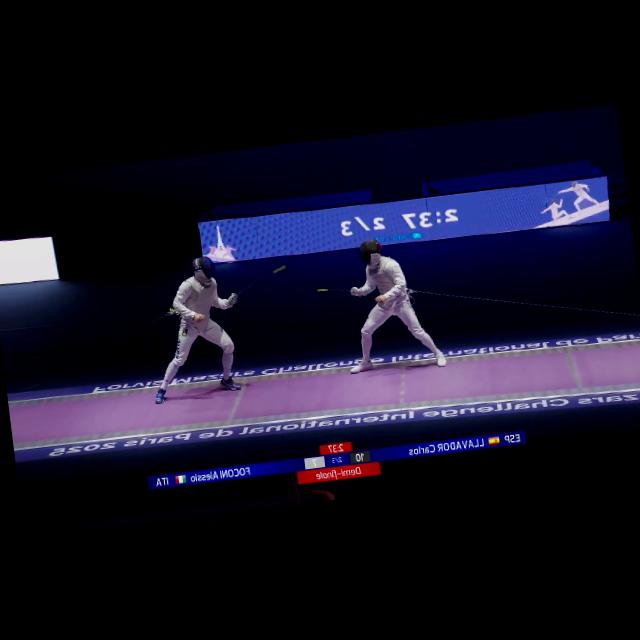blade: (224, 264, 290, 304), (315, 282, 360, 299)
